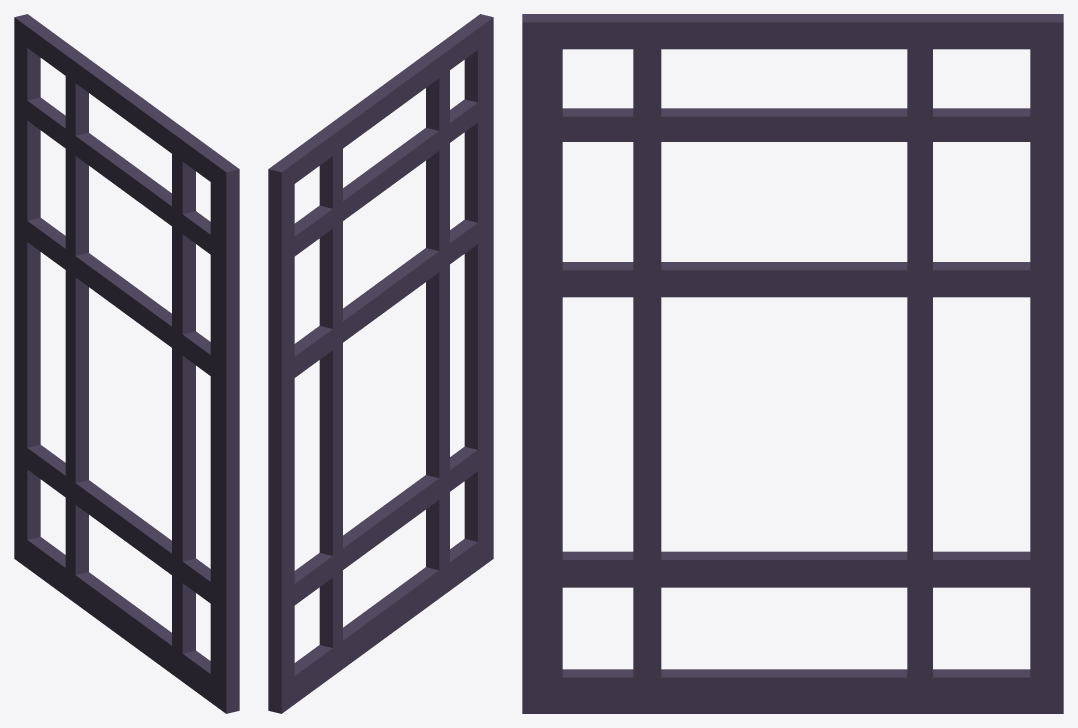
The model's file is LongFrame5.fbx.
The picture shows the model from 3 angles, left to right: view 1: azimuth 30°, elevation 25°; view 2: azimuth 150°, elevation 25°; view 3: azimuth 270°, elevation 25°; orthographic projection. The views are drawn at different scales.
Visible parts, largest first — view 1: LongFrame5; view 2: LongFrame5; view 3: LongFrame5.
Part boxes in pixels (x1,y1,x2,y2): LongFrame5: (14,14,239,713); LongFrame5: (268,14,493,713); LongFrame5: (522,14,1063,713).
Size of the model in its own units: 4.28 by 166 by 118.
